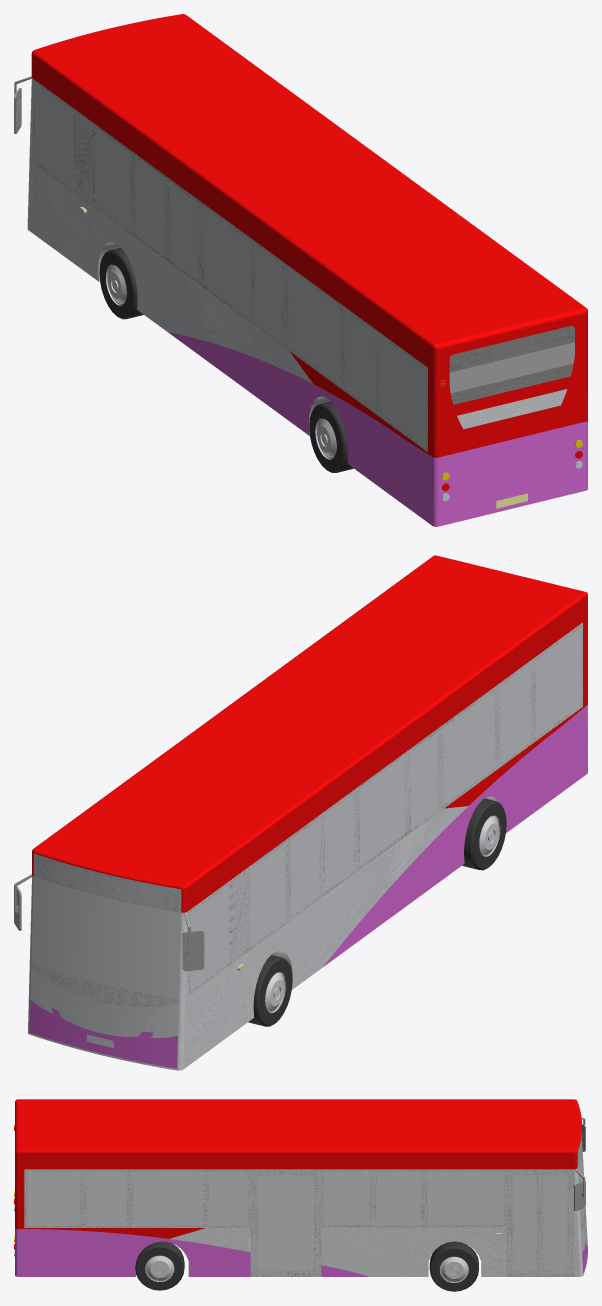
File: carBus.fbx
3 renders of one model, top to bottom at view 1: azimuth 30°, elevation 25°; view 2: azimuth 150°, elevation 25°; view 3: azimuth 270°, elevation 25°, orthographic. The views are drawn at different scales.
Visible parts, largest first — view 1: instance_4; view 2: instance_4; view 3: instance_4.
Part boxes in pixels (x1,y1,x2,y2): instance_4: (14, 14, 587, 526); instance_4: (14, 555, 587, 1070); instance_4: (14, 1099, 587, 1291).
Bounding box in the file's own units: 226 × 229 × 851.
